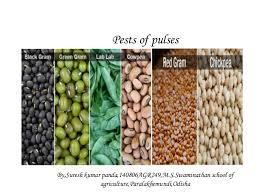Organic: (24, 49, 242, 162)
